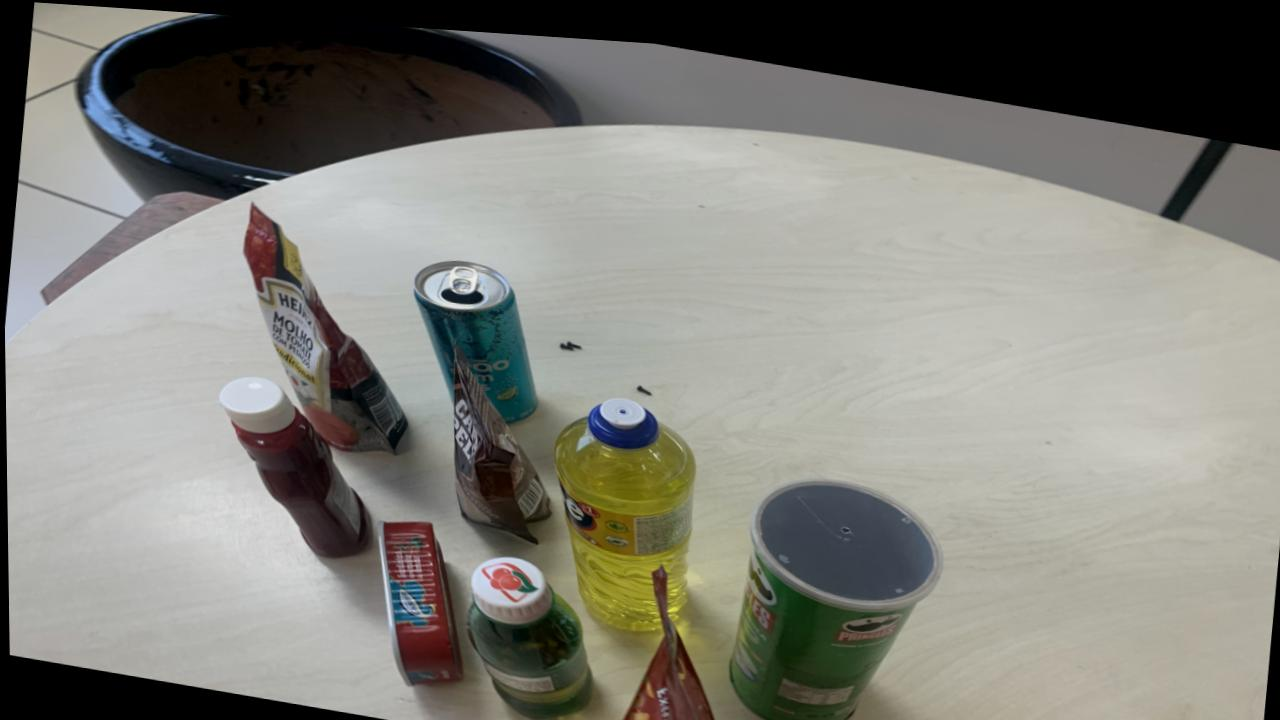Coffee-Pantry_Items: (451, 342, 550, 536)
Detergent-Cleanup_Items: (553, 389, 694, 622)
Guarana-Drinks: (466, 548, 590, 712)
Ketchup-Pantry_Items: (219, 373, 370, 553)
Pringles-Snacks: (727, 468, 941, 718)
Tea-Drinks: (413, 253, 536, 416)
Tomato_Sauce-Pantry_Items: (243, 200, 407, 446), (618, 556, 715, 720)
Tuna_Can-Pantry_Items: (376, 515, 460, 680)
